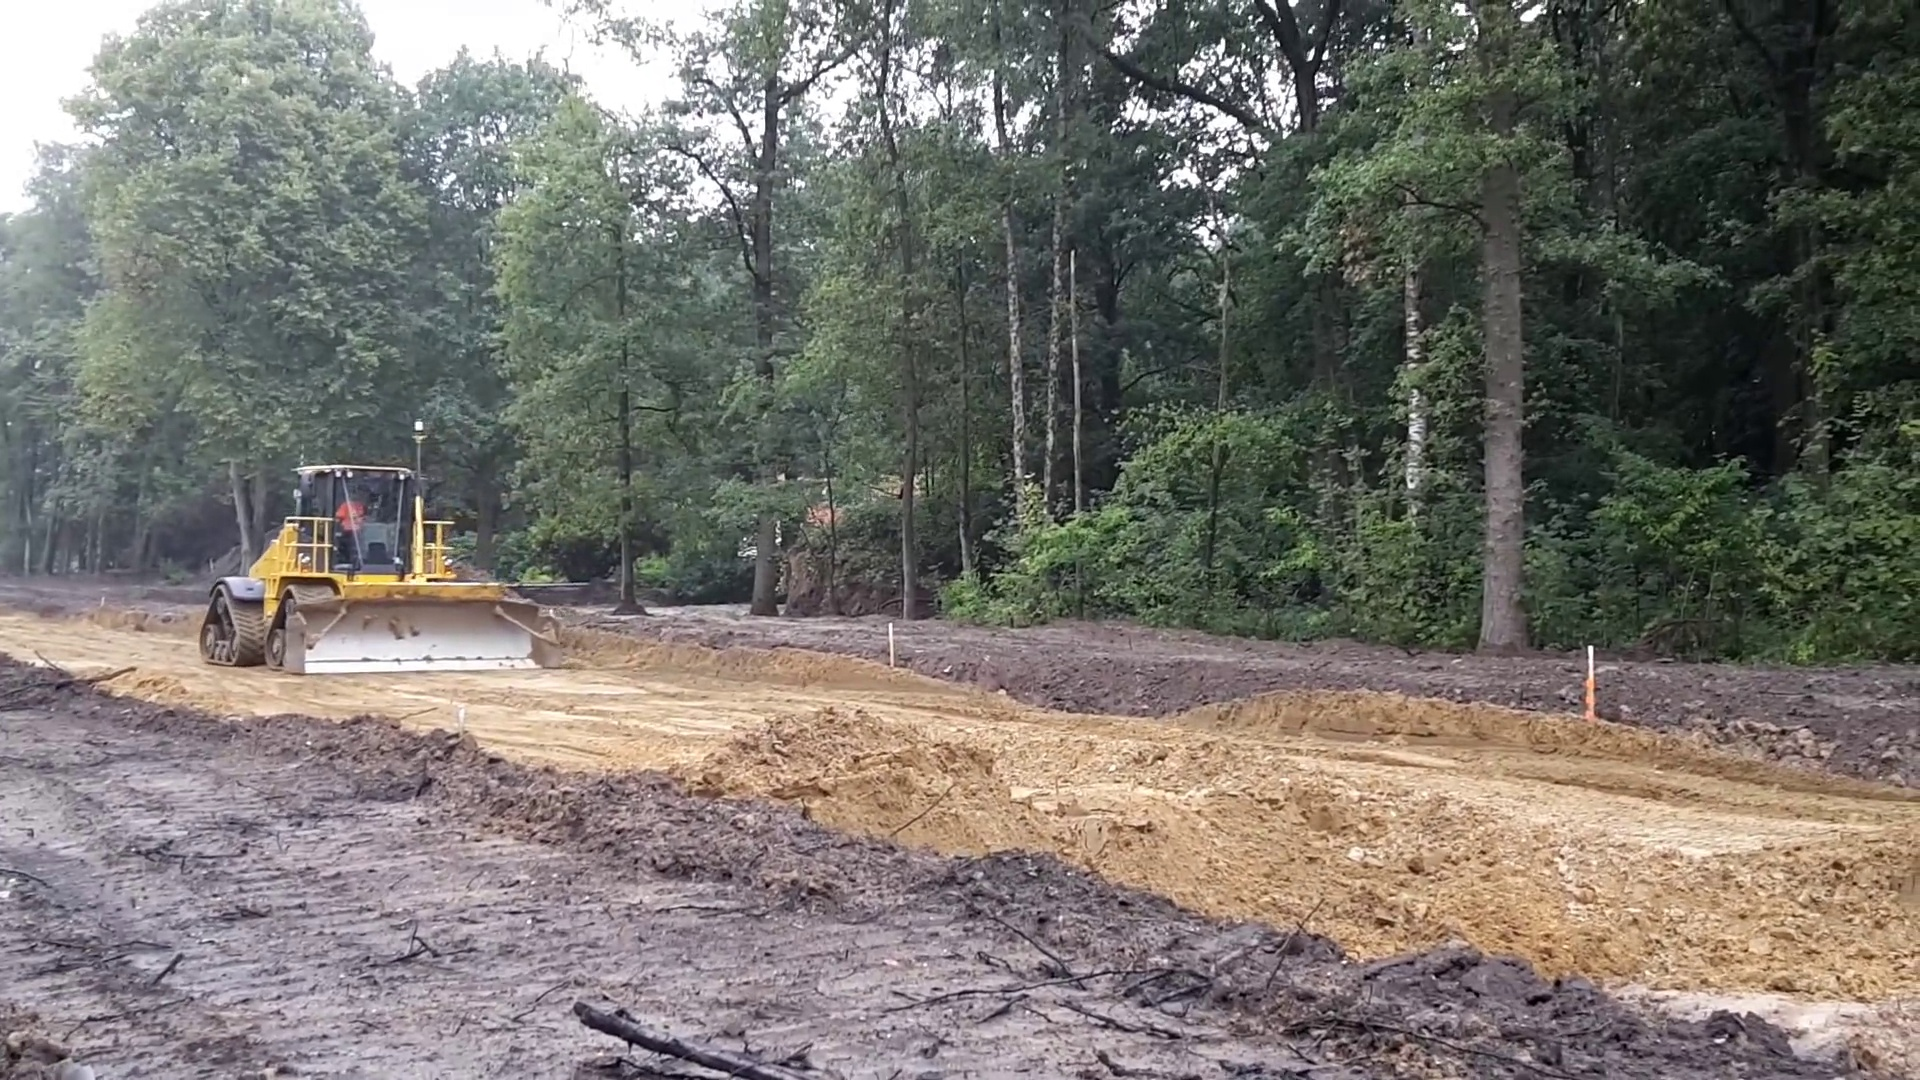bulldozer: (200, 462, 555, 678)
